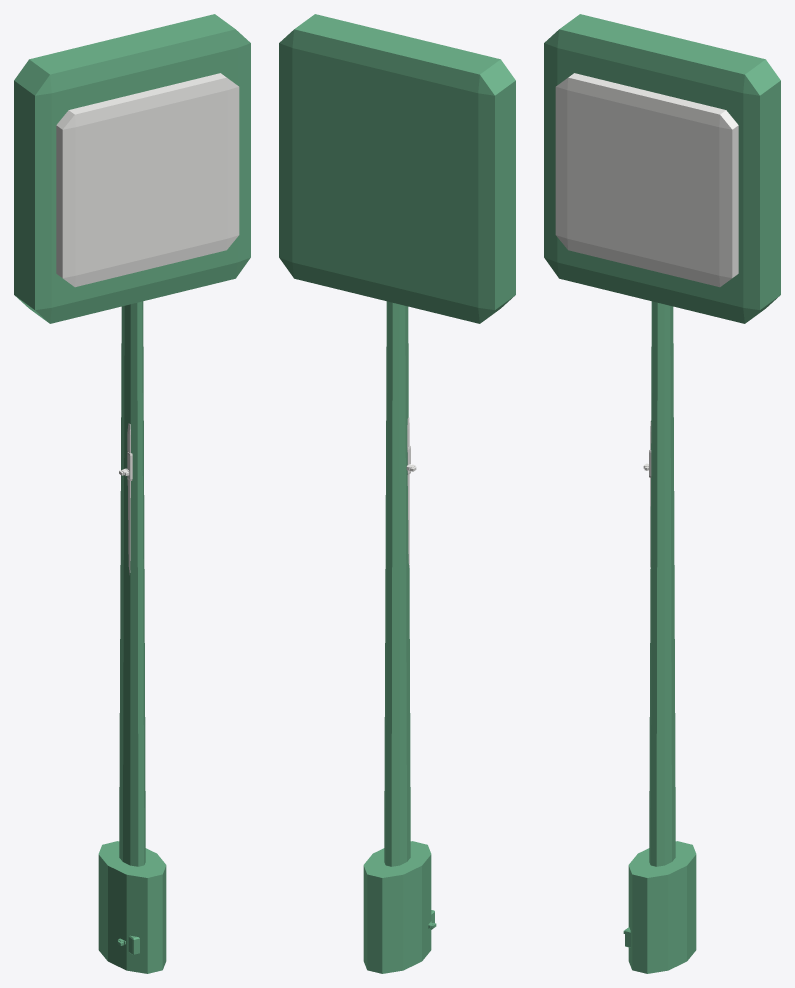
The model's file is b02_no_parking_sign.glb.
3 renders of one model, left to right at view 1: azimuth 30°, elevation 25°; view 2: azimuth 150°, elevation 25°; view 3: azimuth 330°, elevation 25°, orthographic.
Parts seen in each view (by area): view 1: b02_no_parking_sign; view 2: b02_no_parking_sign; view 3: b02_no_parking_sign.
Part boxes in pixels (left/top/right/bottom): b02_no_parking_sign: left=14, top=14, right=250, bottom=973; b02_no_parking_sign: left=279, top=14, right=515, bottom=973; b02_no_parking_sign: left=544, top=14, right=780, bottom=973.
Bounding box in the file's own units: 0.62 × 2.5 × 0.226.
